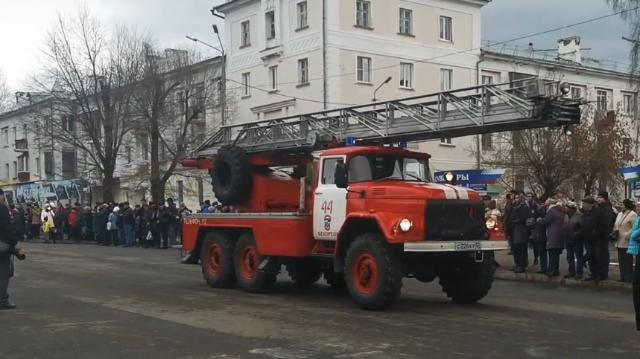fire fighting vehicle: (182, 76, 579, 313)
